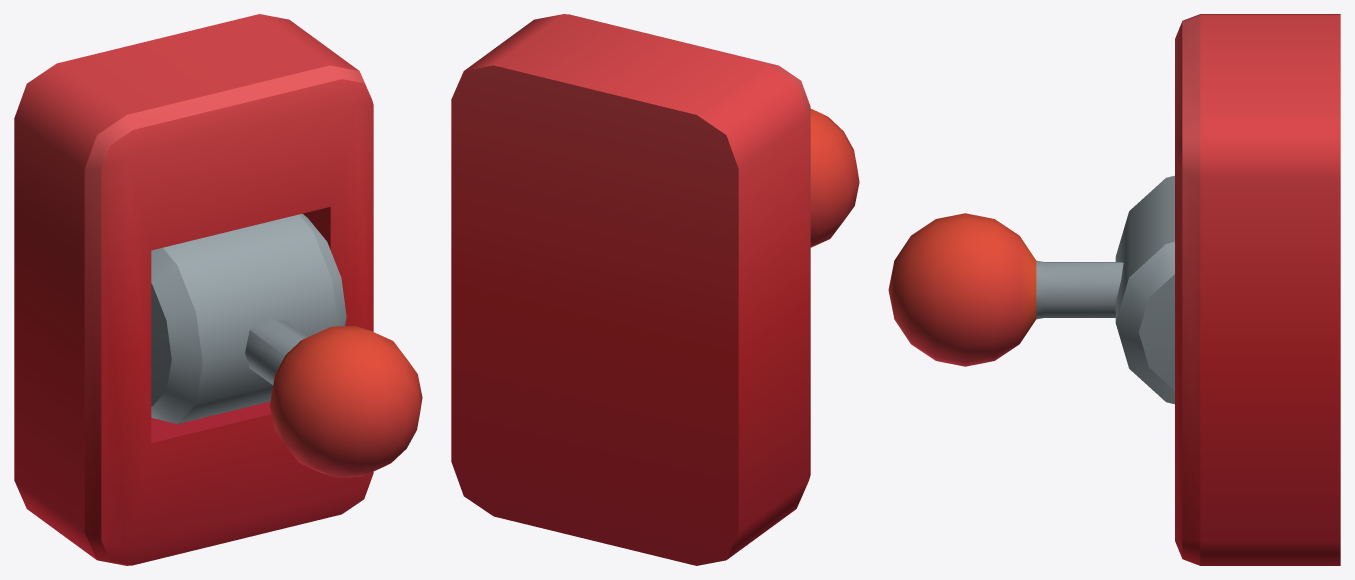
File: lever_wall_base_A_red.glb
3 renders of one model, left to right at view 1: azimuth 30°, elevation 25°; view 2: azimuth 150°, elevation 25°; view 3: azimuth 270°, elevation 25°, orthographic.
Parts seen in each view (by area): view 1: lever_wall_base_A_red, lever_wall_A_red; view 2: lever_wall_base_A_red, lever_wall_A_red; view 3: lever_wall_base_A_red, lever_wall_A_red.
Boxes of the visible parts, box(x1,y1,x2,y2) form: lever_wall_base_A_red: box(14, 14, 373, 565); lever_wall_A_red: box(151, 213, 422, 477); lever_wall_base_A_red: box(451, 14, 810, 565); lever_wall_A_red: box(810, 109, 859, 247); lever_wall_base_A_red: box(1175, 14, 1340, 565); lever_wall_A_red: box(888, 175, 1174, 404).
Size of the model in its own units: 0.8 by 1.2 by 1.09.
Materials: 1 (1 with a texture image).
